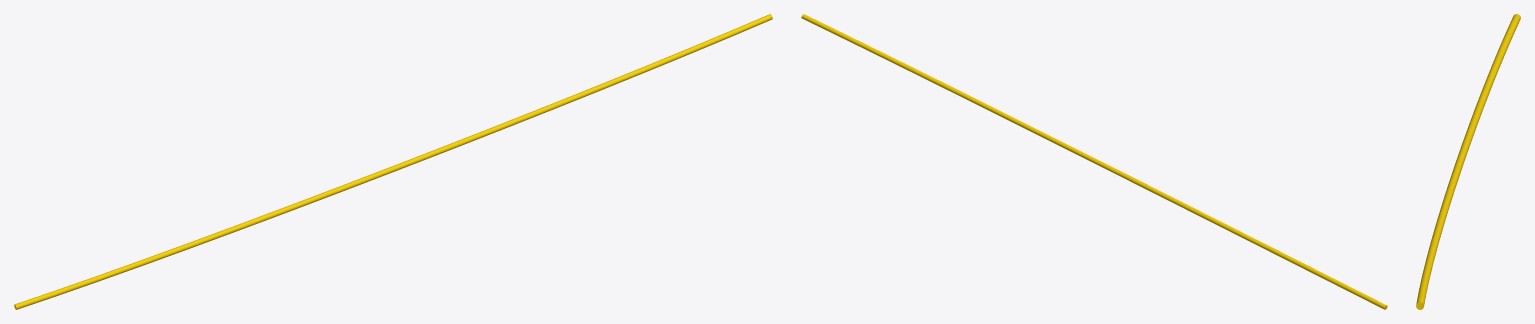
The model's file is Event_420107950_track_28.fbx.
3 renders of one model, left to right at view 1: azimuth 30°, elevation 25°; view 2: azimuth 150°, elevation 25°; view 3: azimuth 270°, elevation 25°, orthographic. The views are drawn at different scales.
Visible parts, largest first — view 1: Model; view 2: Model; view 3: Model.
Boxes of the visible parts, left/top/right/bottom form: Model: left=14, top=14, right=772, bottom=309; Model: left=801, top=14, right=1387, bottom=309; Model: left=1416, top=14, right=1520, bottom=309.
Size of the model in its own units: 5.7 by 1.1 by 0.5249.
